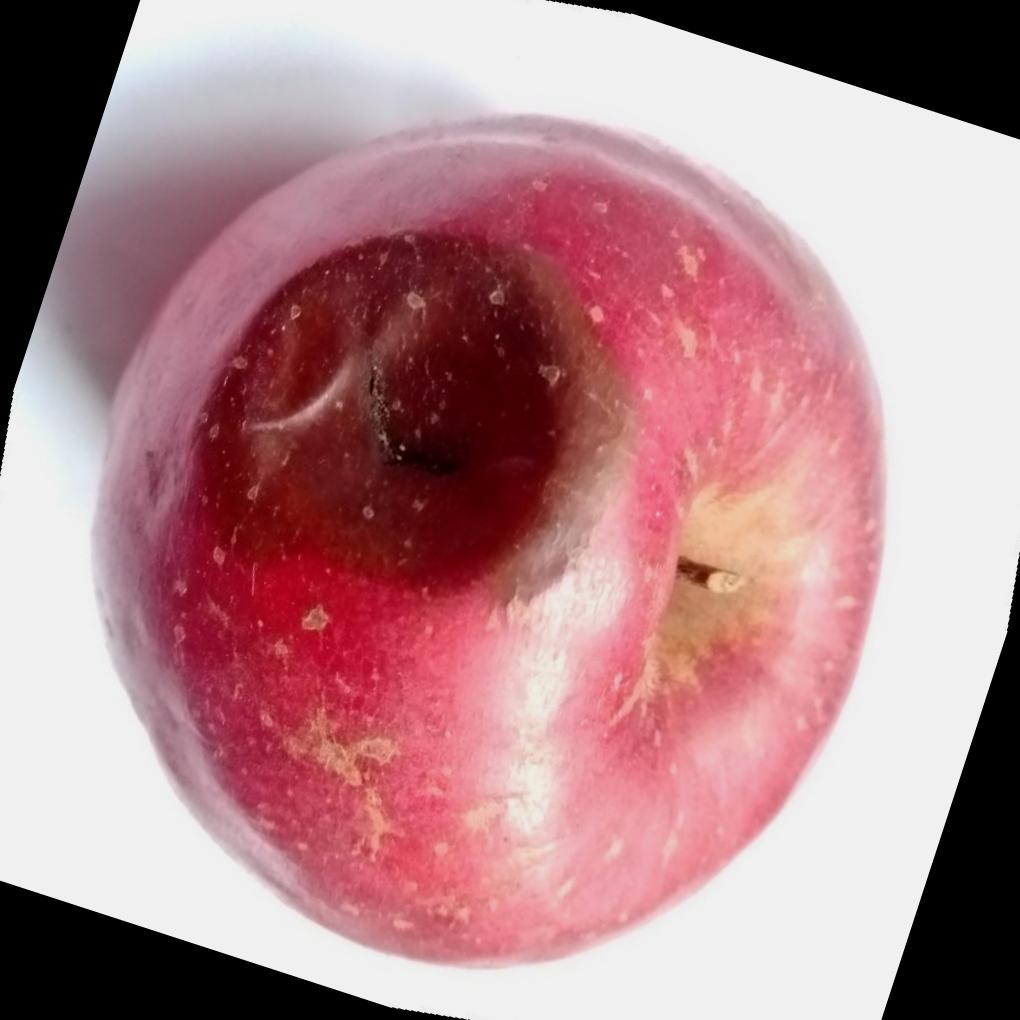FreshOrange: (88, 111, 886, 973)
